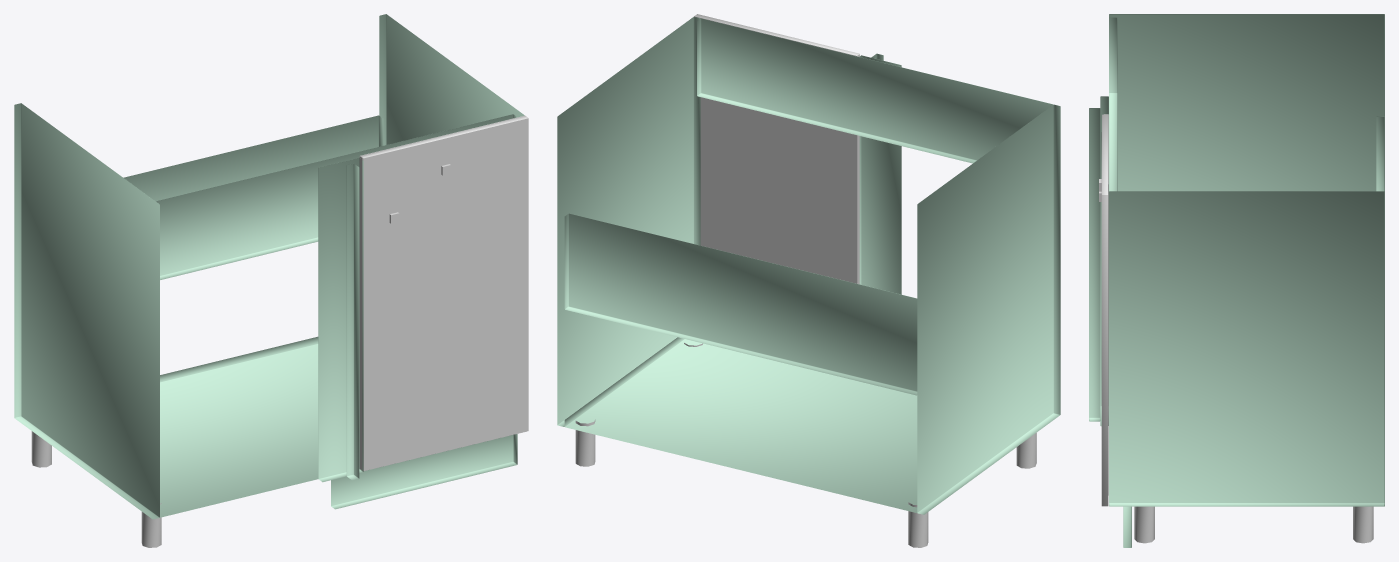
The picture shows the model from 3 angles, left to right: view 1: azimuth 30°, elevation 25°; view 2: azimuth 150°, elevation 25°; view 3: azimuth 270°, elevation 25°; orthographic projection.
Visible parts, largest first — view 1: M_MU_1, M_MU_1_F.2, Legs, M_MU_1_F_C.2; view 2: M_MU_1, M_MU_1_F_B.2, M_MJ_1_F_A.2, Legs, M_MU_1_F_C.2; view 3: M_MU_1, M_MU_1_F.2, Legs, M_MJ_1_F_A.2.
Boxes of the visible parts, x1,y1,x2,y2 form: M_MU_1: (14,14,524,519); M_MU_1_F.2: (361,115,528,470); Legs: (31,431,161,547); M_MU_1_F_C.2: (359,156,362,469); M_MU_1: (557,16,1060,514); M_MU_1_F_B.2: (776,36,859,283); M_MJ_1_F_A.2: (694,16,858,263); Legs: (575,343,1036,547); M_MU_1_F_C.2: (700,55,859,284); M_MU_1: (1089,14,1384,547); M_MU_1_F.2: (1101,114,1108,506); Legs: (1134,506,1373,543); M_MJ_1_F_A.2: (1105,114,1108,495).
Size of the model in its own units: 9.44 by 8.6 by 6.52.
